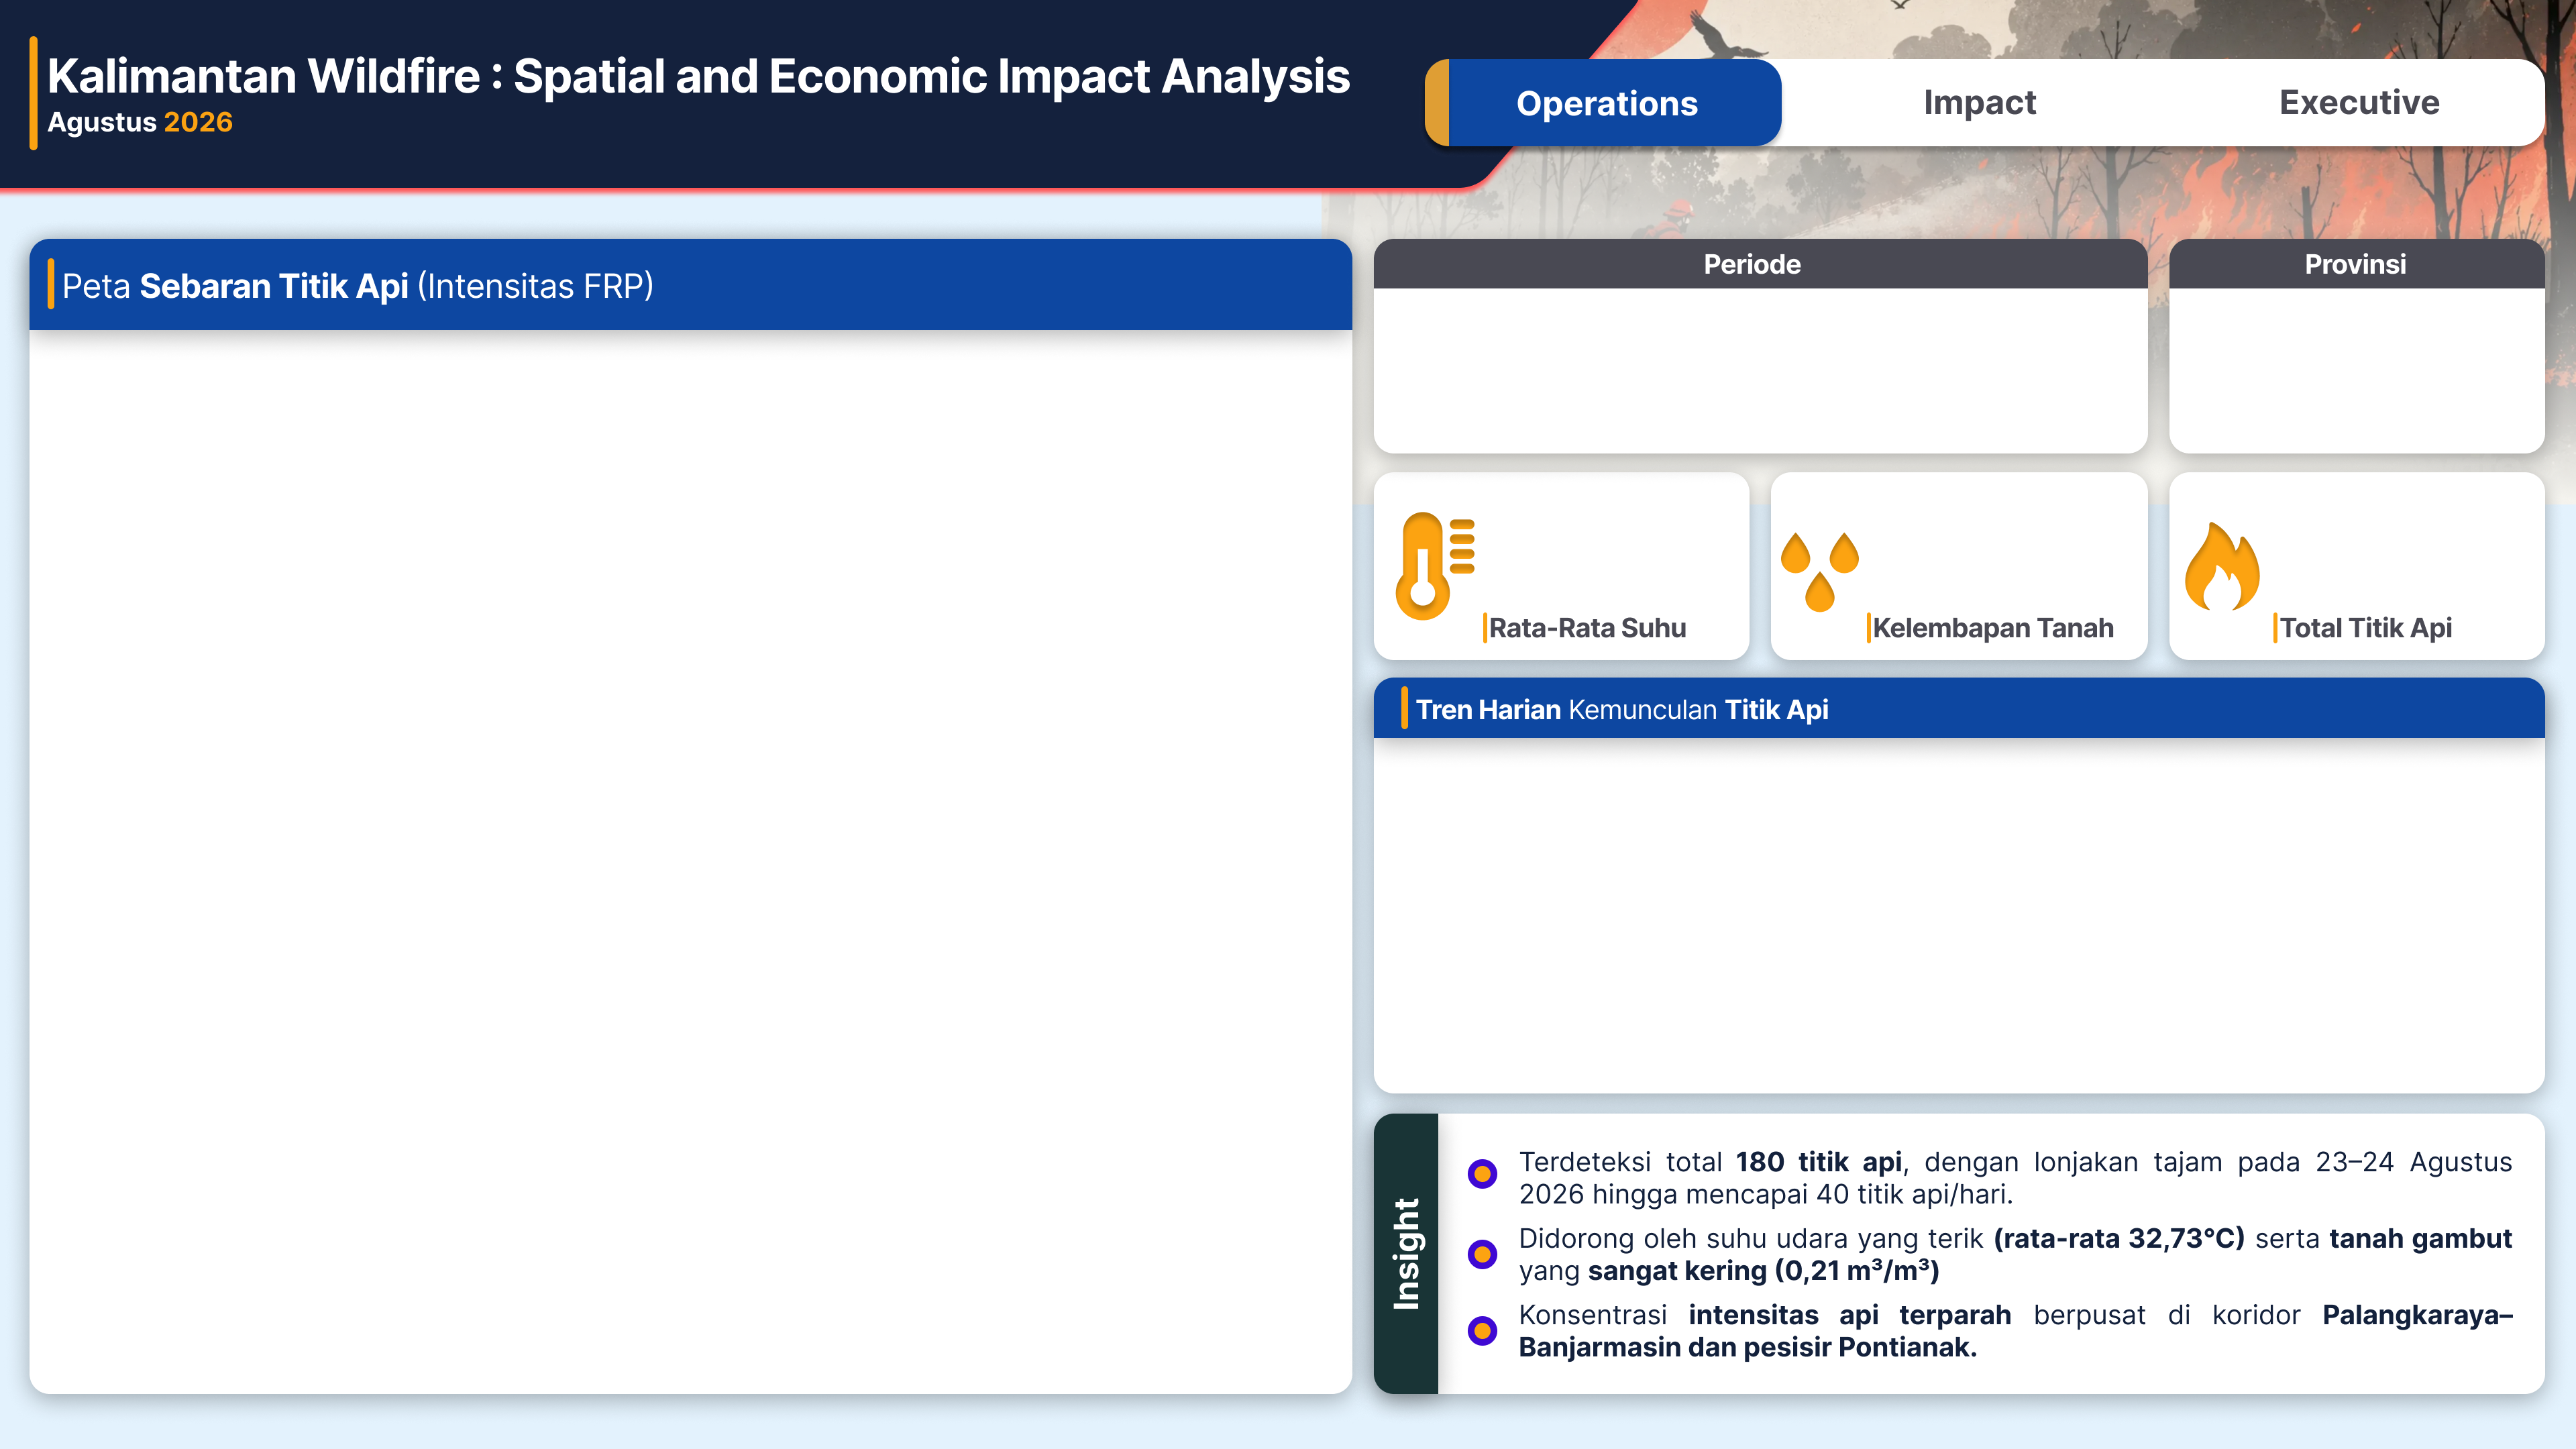

The page's visual inventory and layout, read from the dashboard file:
{"tool":"powerbi","page":{"name":"Page 1","canvas":[1920,1080],"ordinal":0},"visuals":[{"type":"textbox","box":[0,654.4,674,182],"z":0},{"type":"slicer","title":"Provinsi","fields":{"Values":["Dim_Provinsi.province"]},"box":[1622,222,268,92],"z":1000},{"type":"map","title":"Peta Sebaran Titik Api (Ukuran: Intensitas FRP)","fields":{"Size":["Sum(kalimantan_hotspots_latest.frp)"],"X":["kalimantan_hotspots_latest.longitude"],"Y":["kalimantan_hotspots_latest.latitude"]},"box":[32,246,966,794],"z":2000},{"type":"cardVisual","title":"Total Titik Api","fields":{"Data":["Count(kalimantan_hotspots_latest.hotspot_id)"]},"box":[1692,358,184,92],"z":3000},{"type":"cardVisual","title":"Rata-rata Suhu (°C)","fields":{"Data":["Avg(kalimantan_weather_latest.temperature_c)"]},"box":[1104,358,188,92],"z":4000},{"type":"cardVisual","title":"Kelembaban Tanah","fields":{"Data":["Avg(kalimantan_weather_latest.soil_moisture_m3_m3)"]},"box":[1392,358,200,92],"z":5000},{"type":"stackedAreaChart","title":"Tren Harian Kemunculan Titik Api","fields":{"Category":["Dim_Tanggal.Date.Variation.Date Hierarchy.Day"],"Y":["CountNonNull(kalimantan_hotspots_latest.hotspot_id)"]},"box":[1046,558,830,244],"z":6000},{"type":"slicer","title":"Periode","fields":{"Values":["Dim_Tanggal.Date.Variation.Date Hierarchy.Day"]},"box":[1034,222,558.8,91.2],"z":7000}]}

Visuals, with their boxes in screenshot pixels (x1, y1, x2, y2), scaled from the page's 1920x1080 canvas onto the 2576x1449 screenshot:
textbox: [left=0, top=878, right=904, bottom=1122]
"Provinsi" slicer: [left=2176, top=298, right=2536, bottom=421]
"Peta Sebaran Titik Api (Ukuran: Intensitas FRP)" map: [left=43, top=330, right=1339, bottom=1395]
"Total Titik Api" cardVisual: [left=2270, top=480, right=2517, bottom=604]
"Rata-rata Suhu (°C)" cardVisual: [left=1481, top=480, right=1733, bottom=604]
"Kelembaban Tanah" cardVisual: [left=1868, top=480, right=2136, bottom=604]
"Tren Harian Kemunculan Titik Api" stackedAreaChart: [left=1403, top=749, right=2517, bottom=1076]
"Periode" slicer: [left=1387, top=298, right=2137, bottom=420]
